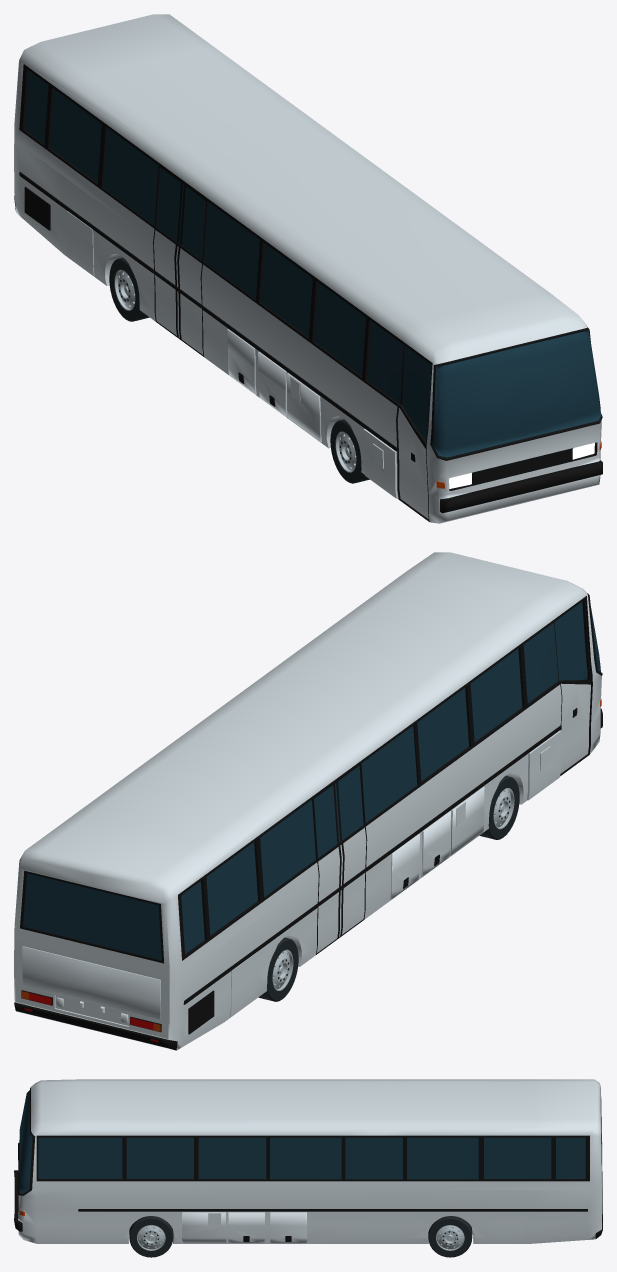
Rendered from transit-bus.glb.
3 renders of one model, top to bottom at view 1: azimuth 30°, elevation 25°; view 2: azimuth 150°, elevation 25°; view 3: azimuth 270°, elevation 25°, orthographic. The views are drawn at different scales.
Visible parts, largest first — view 1: Coach body, wheel-2, wheel-1; view 2: Coach body, wheel-1, wheel-2; view 3: Coach body, wheel-3, wheel-0.
Boxes of the visible parts, box(x1,y1,x2,y2) form: Coach body: box(14, 14, 602, 523); wheel-2: box(330, 419, 369, 483); wheel-1: box(109, 257, 149, 321); Coach body: box(14, 552, 602, 1050); wheel-1: box(258, 937, 298, 1001); wheel-2: box(479, 776, 519, 839); Coach body: box(14, 1079, 602, 1243); wheel-3: box(129, 1216, 173, 1257); wheel-0: box(428, 1216, 472, 1257).
Size of the model in its own units: 2.66 by 2.95 by 12.
